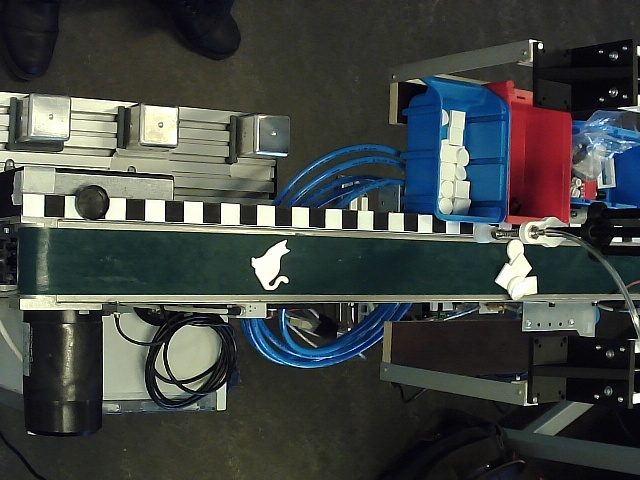cat: (251, 239, 290, 291)
